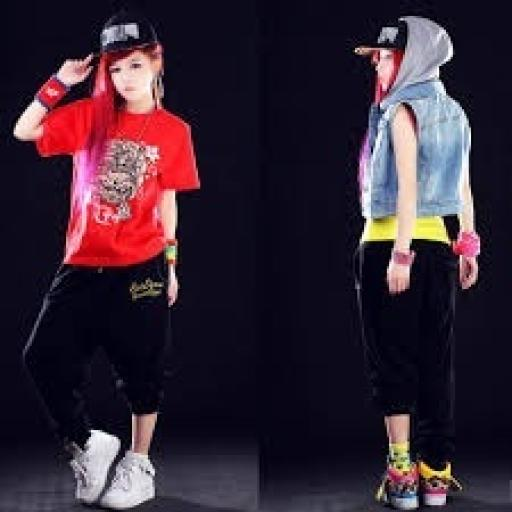dancing: (9, 9, 205, 510), (348, 11, 485, 510)
